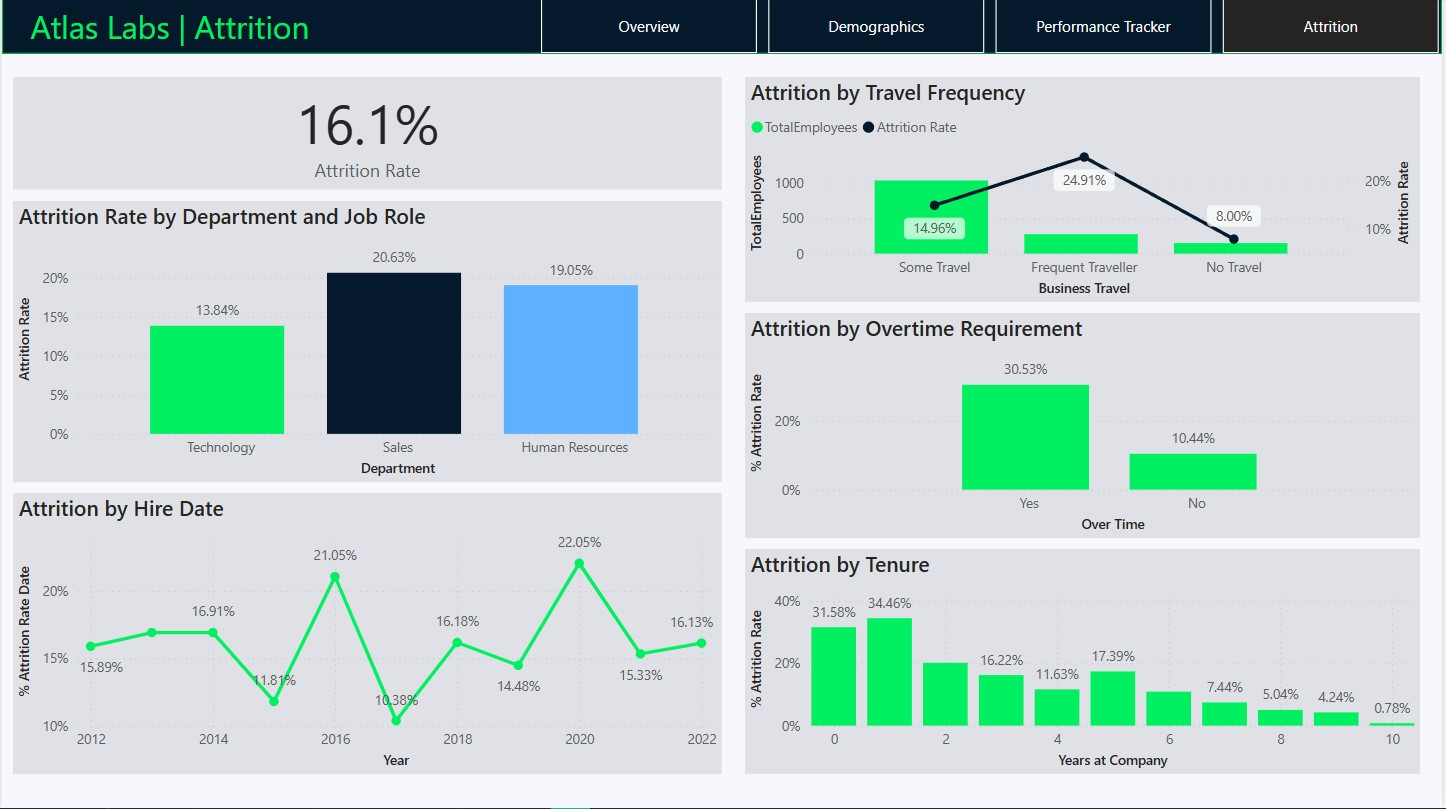

What the dashboard file says about the page in this screenshot:
{"tool":"powerbi","page":{"name":"Attrition","canvas":[1280,720],"ordinal":3},"visuals":[{"type":"card","fields":{"Values":["_Measures.Attrition Rate"]},"box":[10,70,630,100],"z":0},{"type":"columnChart","title":"Attrition Rate by Department and Job Role","fields":{"Y":["_Measures.Attrition Rate"],"Category":["DimEmployee.Department","DimEmployee.JobRole"]},"box":[10,180,630,250],"z":1000},{"type":"lineChart","title":"Attrition by Hire Date","fields":{"Y":["_Measures.% Attrition Rate Date"],"Category":["DimDate.Date.Variation.Date Hierarchy.Year","DimDate.Date.Variation.Date Hierarchy.Quarter","DimDate.Date.Variation.Date Hierarchy.Month","DimDate.Date.Variation.Date Hierarchy.Day"]},"box":[10,440,630,250],"z":2000},{"type":"lineClusteredColumnComboChart","title":"Attrition by Travel Frequency","fields":{"Category":["DimEmployee.BusinessTravel"],"Y2":["_Measures.Attrition Rate"],"Y":["_Measures.TotalEmployees"]},"box":[660,70,600,200],"z":3000},{"type":"clusteredColumnChart","title":"Attrition by Overtime Requirement ","fields":{"Y":["_Measures.Attrition Rate"],"Category":["DimEmployee.OverTime"]},"box":[660,280,600,200],"z":4000},{"type":"clusteredColumnChart","title":"Attrition by Tenure","fields":{"Y":["_Measures.Attrition Rate"],"Category":["DimEmployee.YearsAtCompany"]},"box":[660,490,600,200],"z":5000},{"type":"shape","box":[0,0,1280,49.6],"z":6000},{"type":"pageNavigator","box":[479.5,0,800.5,49.6],"z":7000}]}

Visuals, with their boxes in screenshot pixels (x1, y1, x2, y2), scaled from the page's 1280x720 canvas onto the 1446x809 screenshot:
card - _Measures.Attrition Rate: select_region(11, 79, 723, 191)
"Attrition Rate by Department and Job Role" columnChart: select_region(11, 202, 723, 483)
"Attrition by Hire Date" lineChart: select_region(11, 494, 723, 775)
"Attrition by Travel Frequency" lineClusteredColumnComboChart: select_region(746, 79, 1423, 303)
"Attrition by Overtime Requirement " clusteredColumnChart: select_region(746, 315, 1423, 539)
"Attrition by Tenure" clusteredColumnChart: select_region(746, 551, 1423, 775)
shape: select_region(0, 0, 1445, 56)
pageNavigator: select_region(542, 0, 1445, 56)
